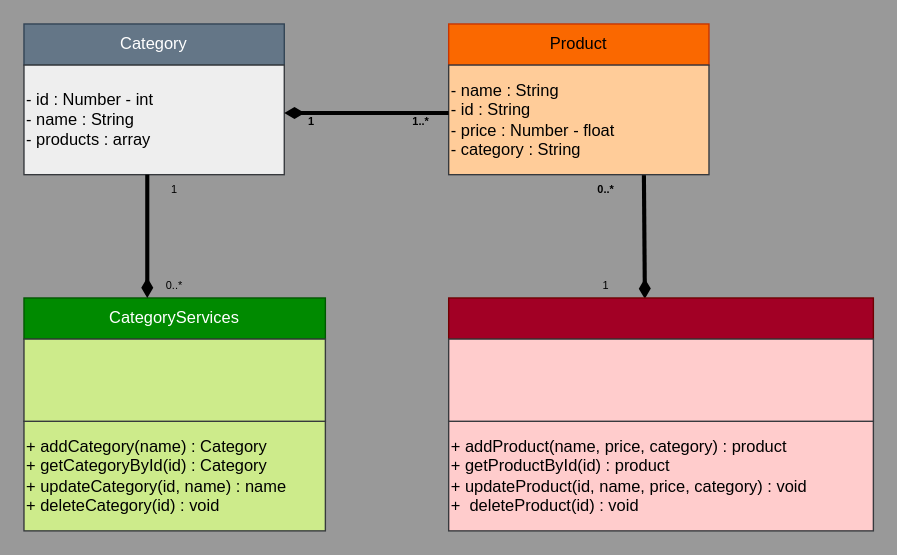
This 897x555 diagram has some shape labels left out. Each missing label, with the centre of its shape:
"- categories : array - nextCategory : Number - int" goes at (174,379).
"- products : array - NextProduct : Number - int" goes at (660,379).
"ProductServices" goes at (660,318).
